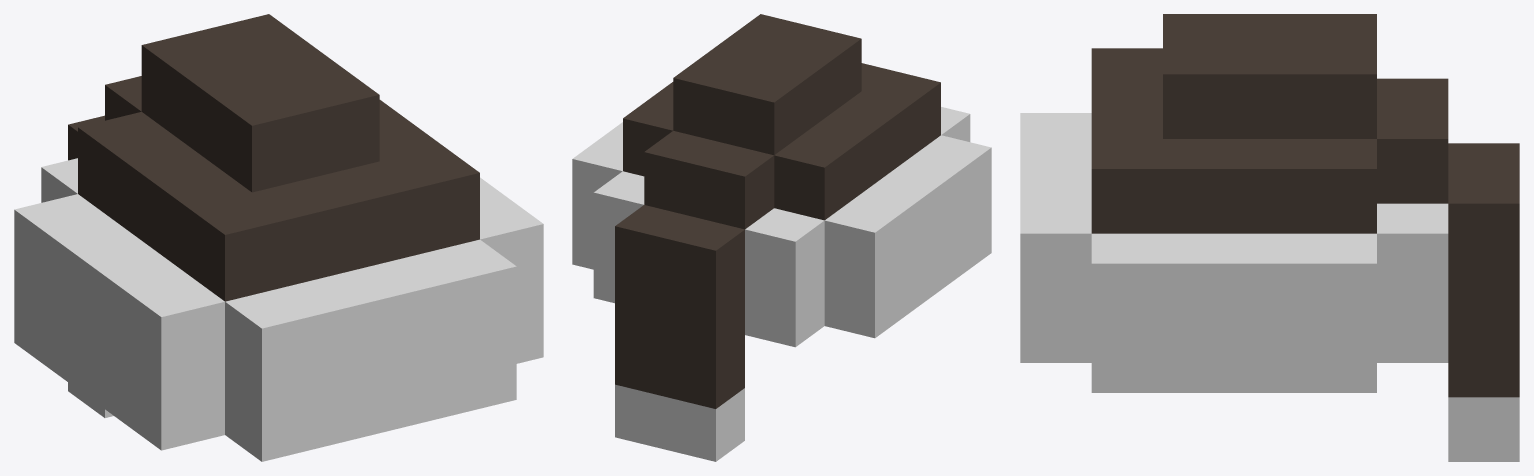
File: humanoid-222-helm_lgt_1d_ja_color.obj
3 renders of one model, left to right at view 1: azimuth 30°, elevation 25°; view 2: azimuth 150°, elevation 25°; view 3: azimuth 270°, elevation 25°, orthographic. The views are drawn at different scales.
Parts seen in each view (by area): view 1: helm_lgt_1d_ja_color; view 2: helm_lgt_1d_ja_color; view 3: helm_lgt_1d_ja_color.
Part boxes in pixels (x1,y1,x2,y2): helm_lgt_1d_ja_color: [14, 14, 543, 461]; helm_lgt_1d_ja_color: [572, 14, 991, 461]; helm_lgt_1d_ja_color: [1020, 14, 1519, 461].
Size of the model in its own units: 0.6 by 0.6 by 0.7.
1 material, 1 textured.
